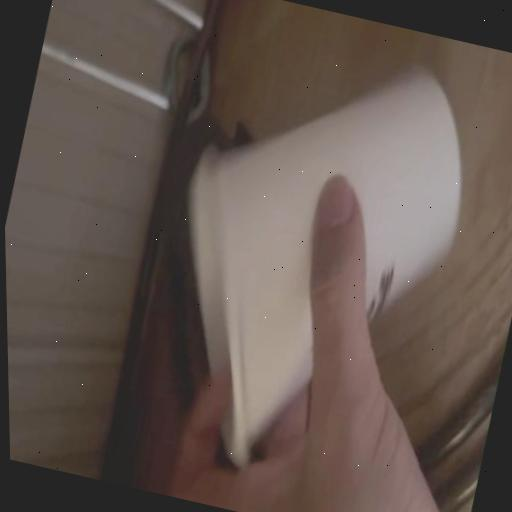ly_giay: (189, 72, 461, 464)
